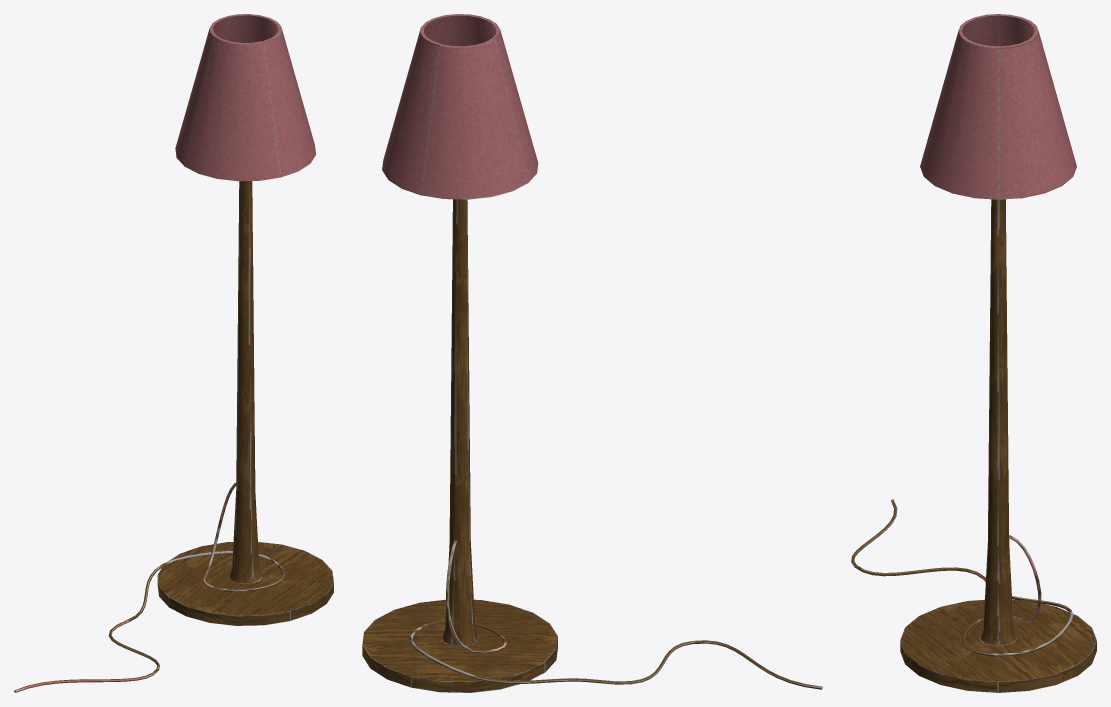
File: lamppost.glb
3 renders of one model, left to right at view 1: azimuth 30°, elevation 25°; view 2: azimuth 150°, elevation 25°; view 3: azimuth 270°, elevation 25°, orthographic. The views are drawn at different scales.
Visible parts, largest first — view 1: lamp, lampedge; view 2: lamp, lampedge; view 3: lamp, lampedge.
Part boxes in pixels (bbox=[...]): lamp: bbox=[157, 14, 333, 625]; lampedge: bbox=[14, 482, 284, 692]; lamp: bbox=[362, 14, 557, 692]; lampedge: bbox=[409, 540, 822, 689]; lamp: bbox=[900, 14, 1096, 692]; lampedge: bbox=[851, 499, 1073, 656].
Bounding box in the file's own units: 1.39 × 2.09 × 0.7497.
Materials: 2 (1 with a texture image).
